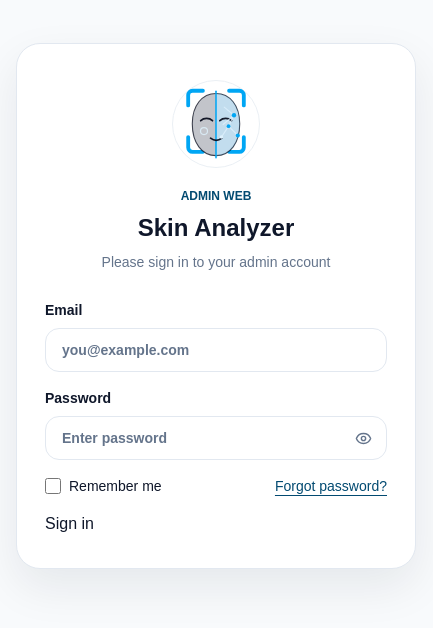
Scenario: LoginPage auth behavior › does not show invalid-credentials copy for terminal session_ended after login
Type "admin@example.com" into the field labelled "Email". click: point(216, 350)
box: x1=45 y1=328 x2=387 y2=372
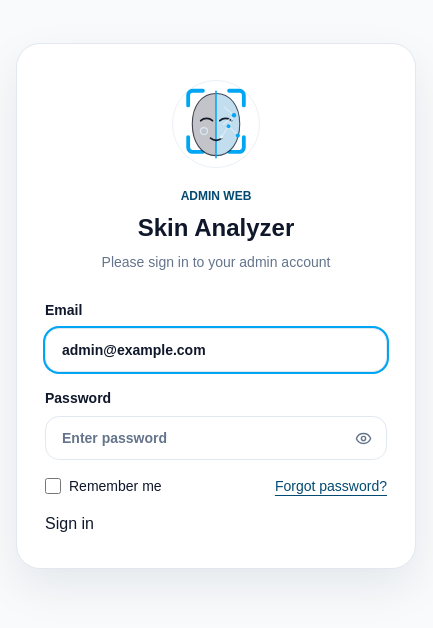
Type "test-password" into the password field labelled "Password". click: point(216, 438)
box: x1=45 y1=416 x2=387 y2=460
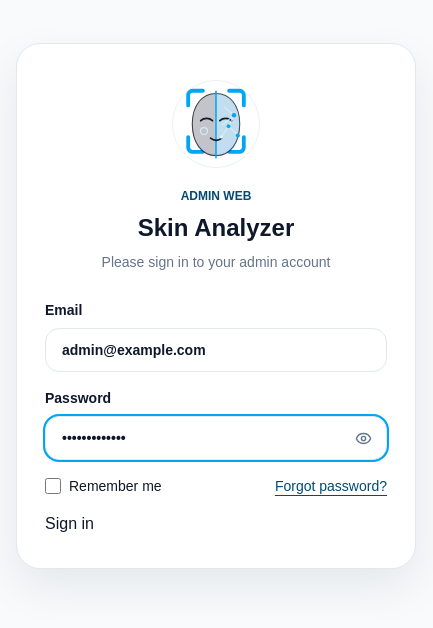
Click the button "Sign in". click: point(69, 524)
box: x1=45 y1=512 x2=94 y2=536
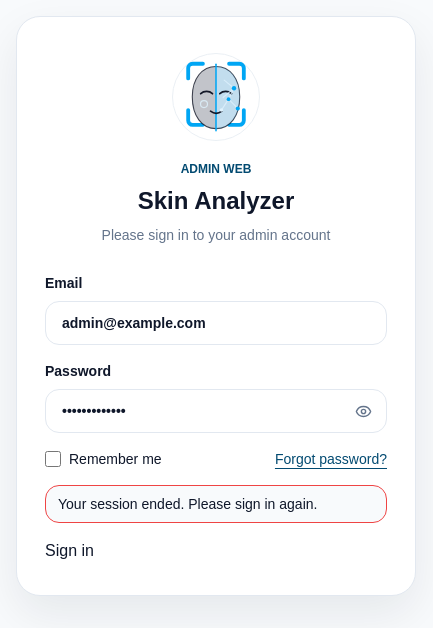
Result: the text "Your session ended. Please sign in again." is shown at x1=45 y1=485 x2=387 y2=523
